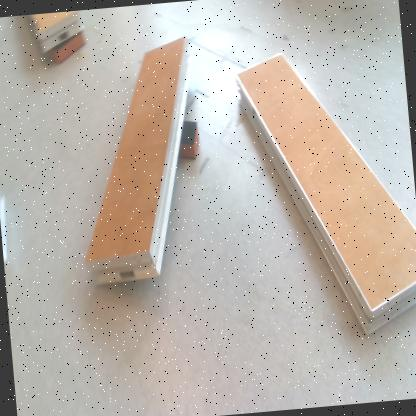Stairs: (237, 54, 416, 339), (84, 38, 192, 291), (29, 11, 85, 51), (1, 190, 10, 264)
